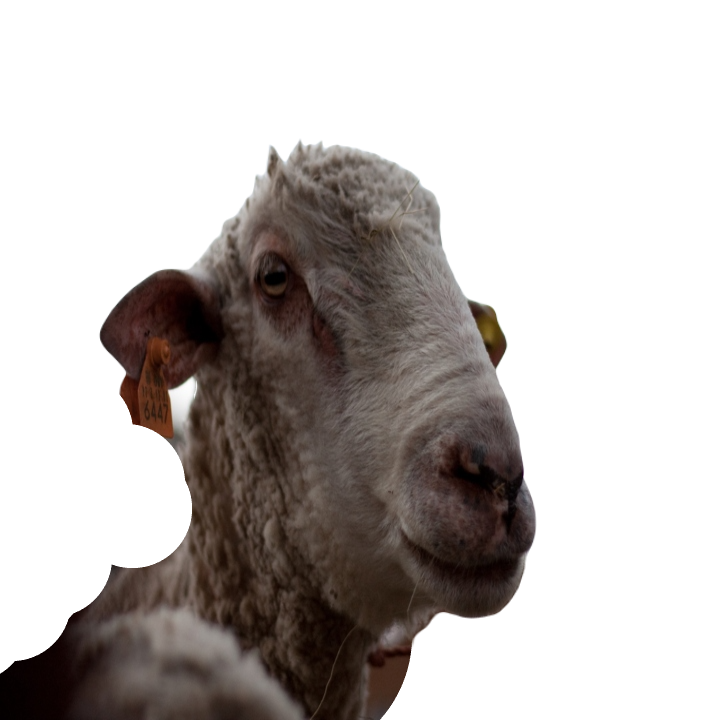Sheep: (0, 138, 542, 719)
